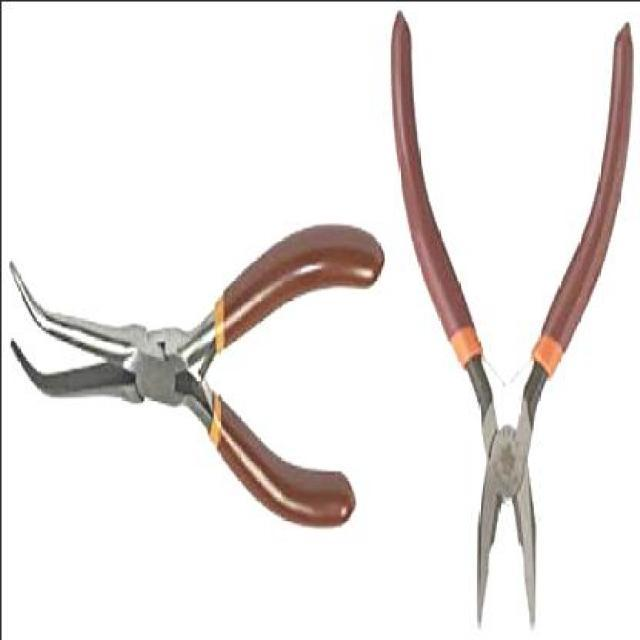pliers: (391, 17, 631, 628)
